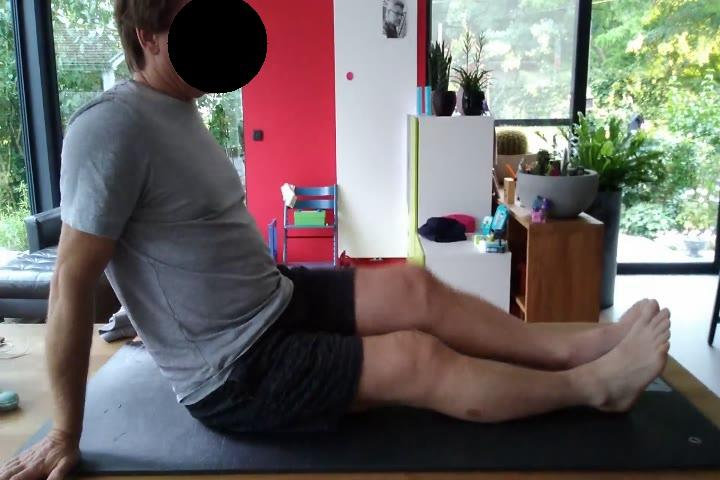lower_body: (183, 264, 674, 437)
